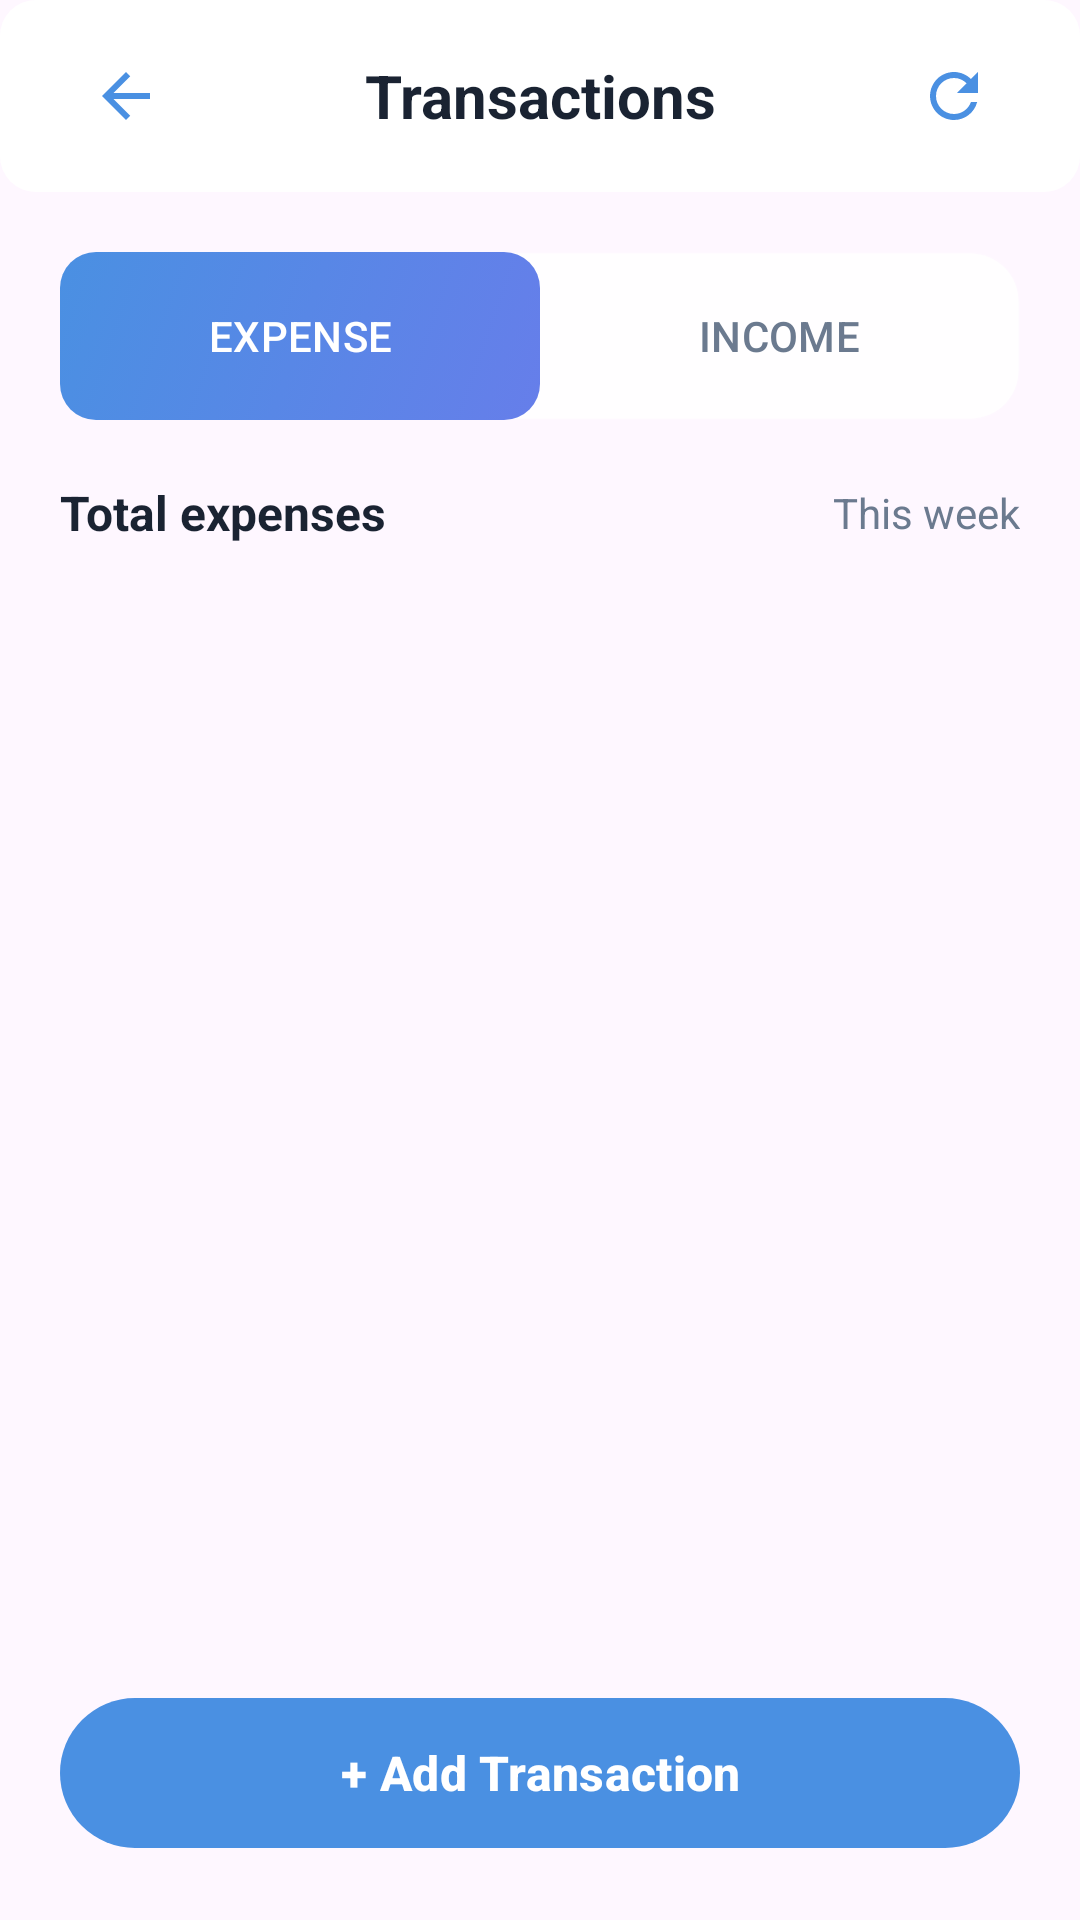

Icons on this 1080*1920 Android screen, each with its box as (x1, y1, x2, y2):
arrow back: (102, 72, 150, 120)
refresh: (930, 72, 978, 120)
